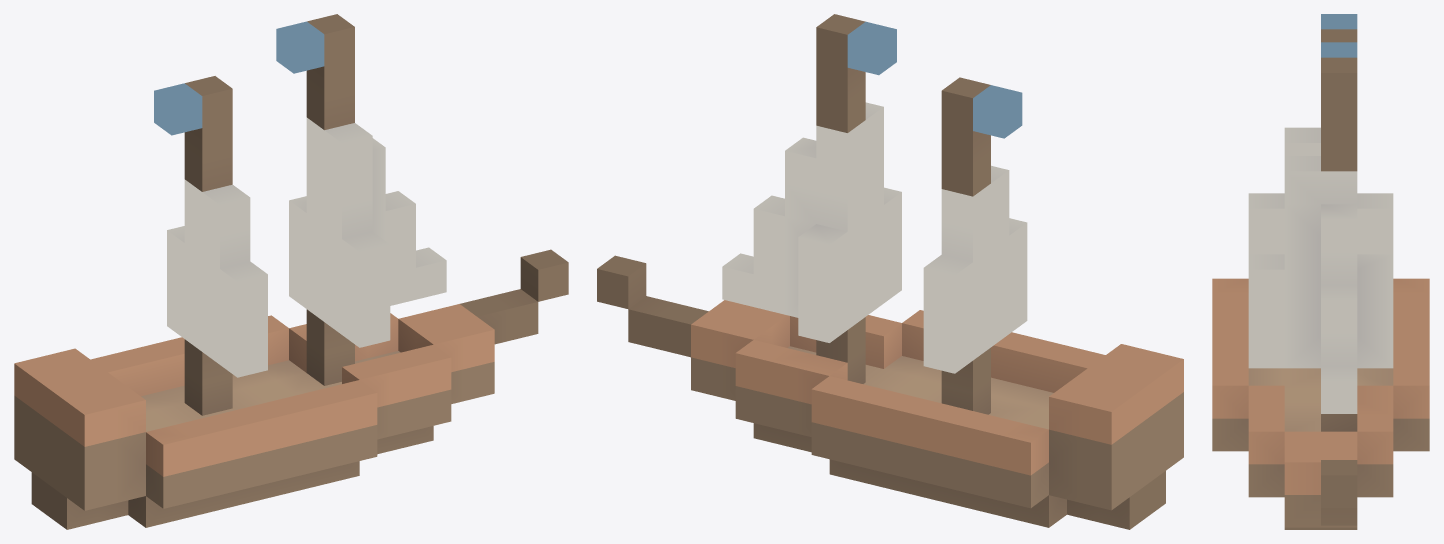
Rendered from brig.lite.glb.
3 views of the same model, side by side, from view 1: azimuth 30°, elevation 25°; view 2: azimuth 150°, elevation 25°; view 3: azimuth 270°, elevation 25° (orthographic). The views are drawn at different scales.
Visible parts, largest first — view 1: brig; view 2: brig; view 3: brig.
Part boxes in pixels (<box>): brig: <box>14,14,568,529</box>; brig: <box>597,14,1183,529</box>; brig: <box>1212,14,1429,529</box>.
Size of the model in its own units: 3.4 by 2.6 by 1.2.
